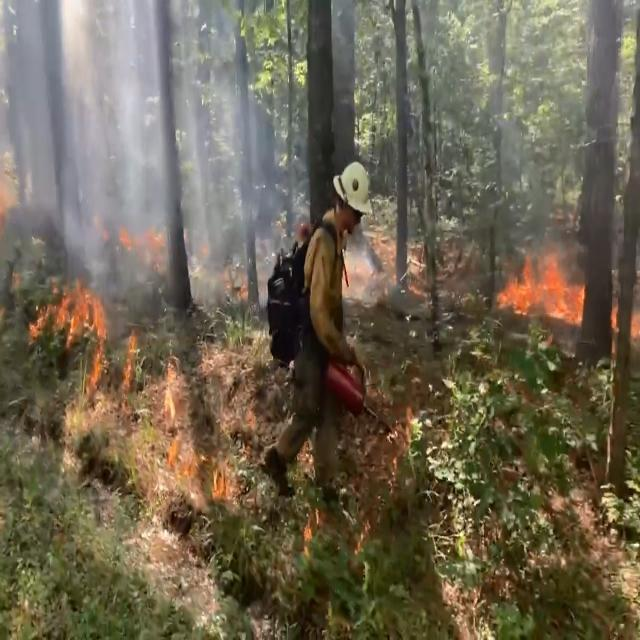Fire: (30, 276, 226, 494), (503, 224, 640, 334)
